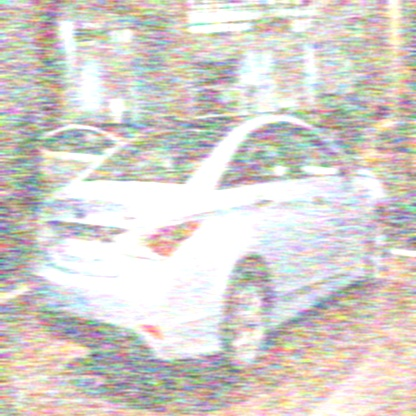Vehicle: (30, 112, 392, 380)
